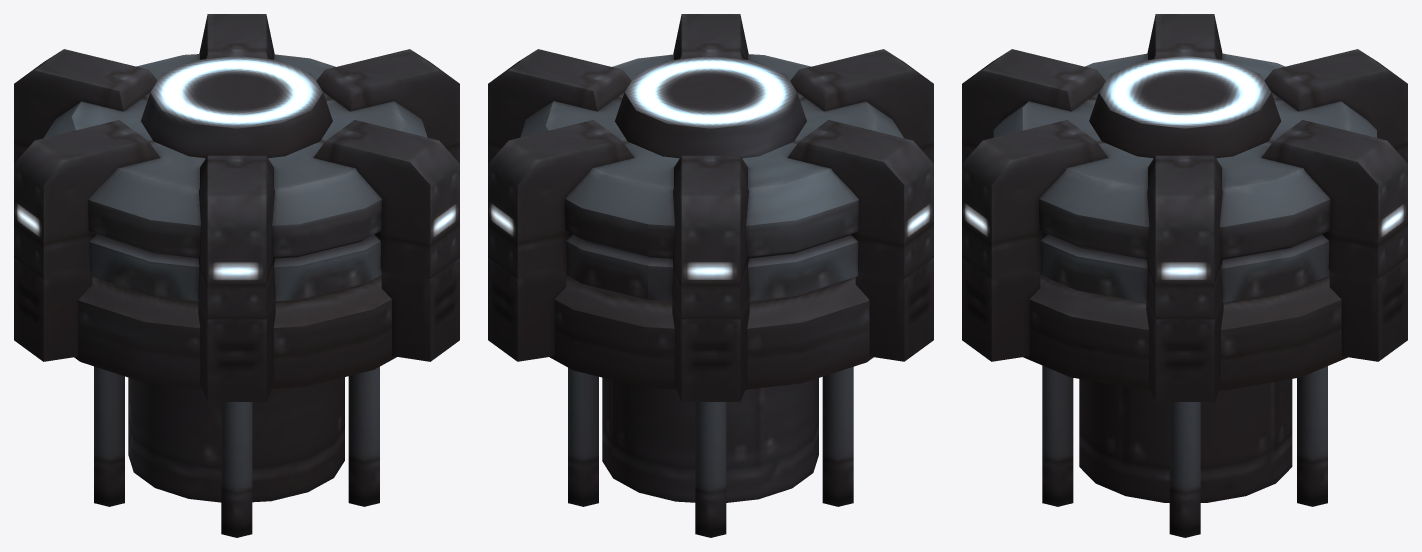
The model's file is Tow_Hammer3.fbx.
The picture shows the model from 3 angles, left to right: view 1: azimuth 30°, elevation 25°; view 2: azimuth 150°, elevation 25°; view 3: azimuth 270°, elevation 25°; orthographic projection.
Visible parts, largest first — view 1: Turret, Base; view 2: Turret, Base; view 3: Turret, Base.
Part boxes in pixels (x1,y1,x2,y2): Turret: (14, 14, 459, 537); Base: (14, 258, 459, 401); Turret: (488, 14, 933, 537); Base: (488, 258, 933, 401); Turret: (962, 14, 1407, 537); Base: (962, 258, 1407, 401).
Bounding box in the file's own units: 190 × 164 × 176.
Materials: 1 (1 with a texture image).
